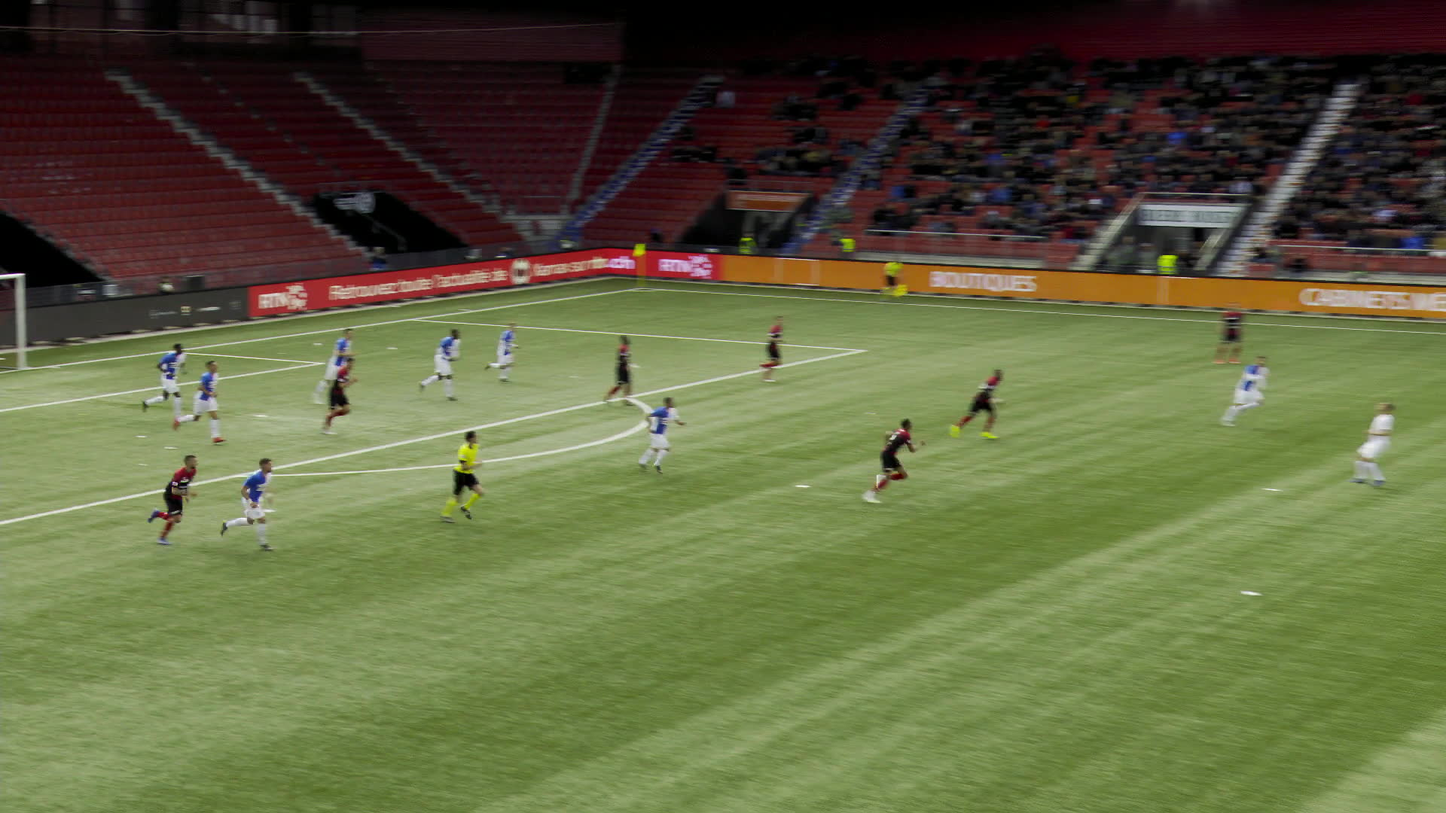player: (857, 417, 928, 506), (140, 453, 203, 547), (224, 458, 279, 551), (1358, 399, 1406, 489), (957, 369, 1014, 441), (181, 359, 227, 443), (1228, 354, 1280, 427), (643, 396, 690, 474), (145, 343, 191, 421), (320, 356, 362, 435), (317, 329, 359, 405), (424, 327, 467, 401), (607, 333, 643, 407), (488, 320, 526, 382), (760, 313, 792, 382), (1222, 301, 1253, 364)
referee: (445, 431, 487, 523), (882, 254, 914, 300)
